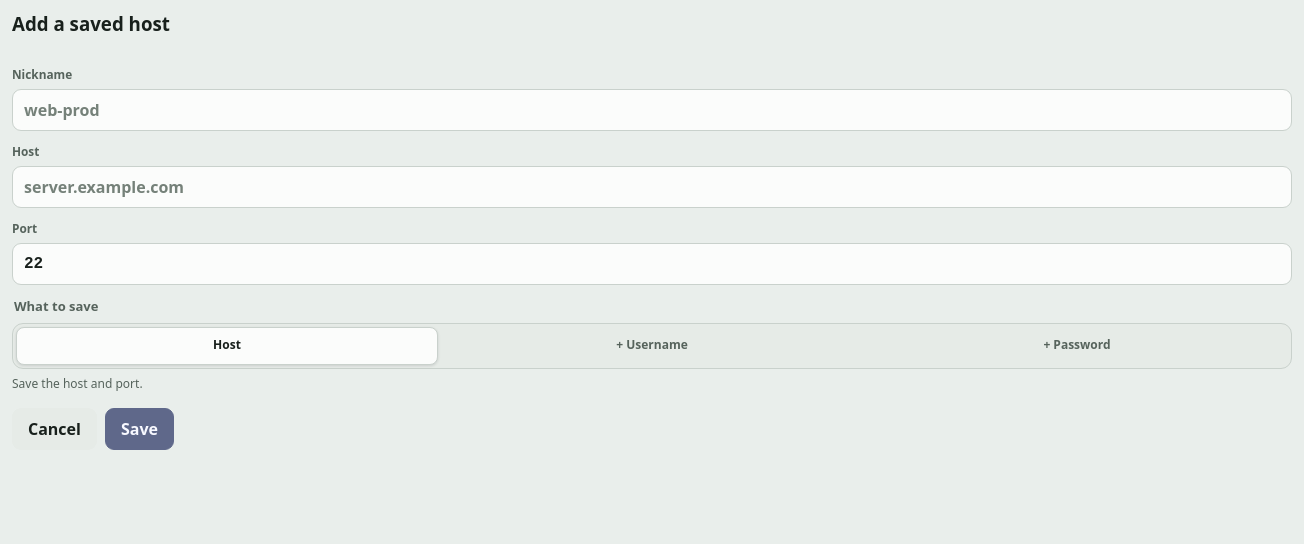
Test: SavedHostEditor › reveals the username field at the username level
The image size is (1304, 544).
Click the radio button named "host and username" at (692, 348), box [616,336,769,360]
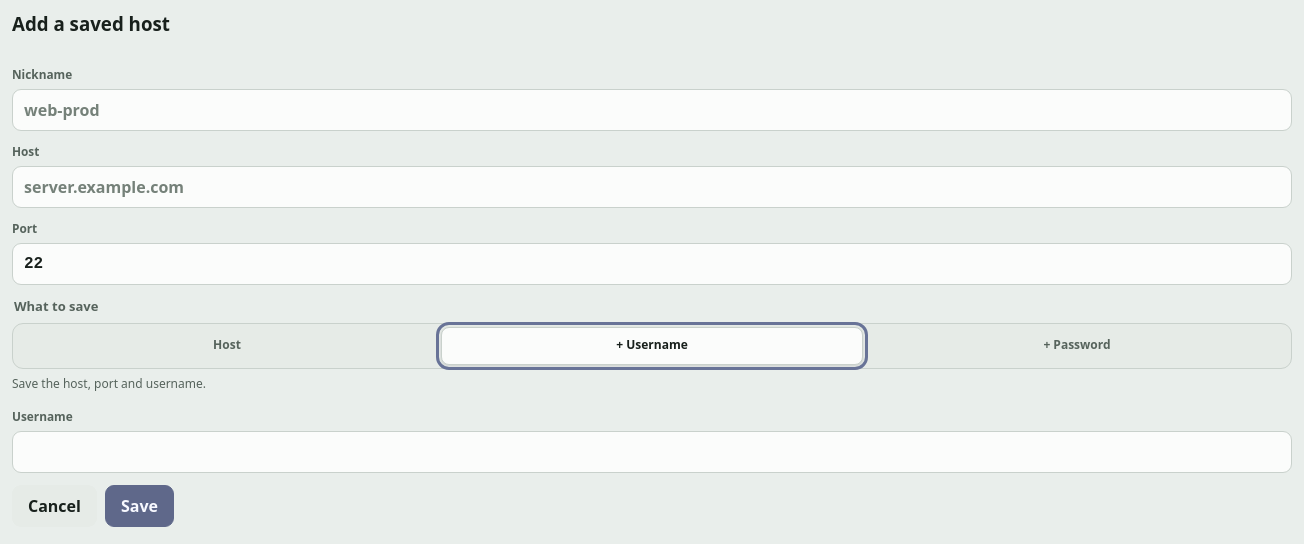
Now the field labelled "Username" is shown, box [12,431,1292,473]
Now the text "Save the host, port and username." is shown, box [12,375,206,392]
